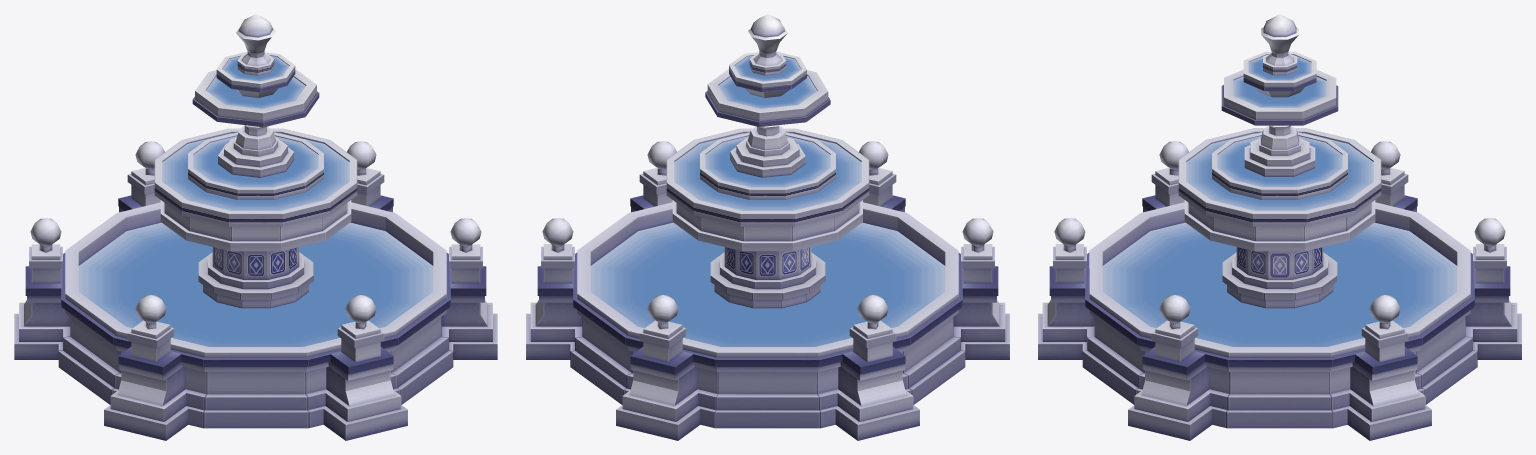
File: my_gehennaparty_01_fountain_01.glb
The picture shows the model from 3 angles, left to right: view 1: azimuth 30°, elevation 25°; view 2: azimuth 150°, elevation 25°; view 3: azimuth 270°, elevation 25°; orthographic projection.
Visible parts, largest first — view 1: my_gehennaparty_01_fountain_01; view 2: my_gehennaparty_01_fountain_01; view 3: my_gehennaparty_01_fountain_01.
Part boxes in pixels (left/top/right/bottom): my_gehennaparty_01_fountain_01: left=14, top=14, right=497, bottom=440; my_gehennaparty_01_fountain_01: left=526, top=14, right=1009, bottom=440; my_gehennaparty_01_fountain_01: left=1038, top=14, right=1521, bottom=440.
Bounding box in the file's own units: 0.0164 × 0.0131 × 0.0174.
1 material, 1 textured.
